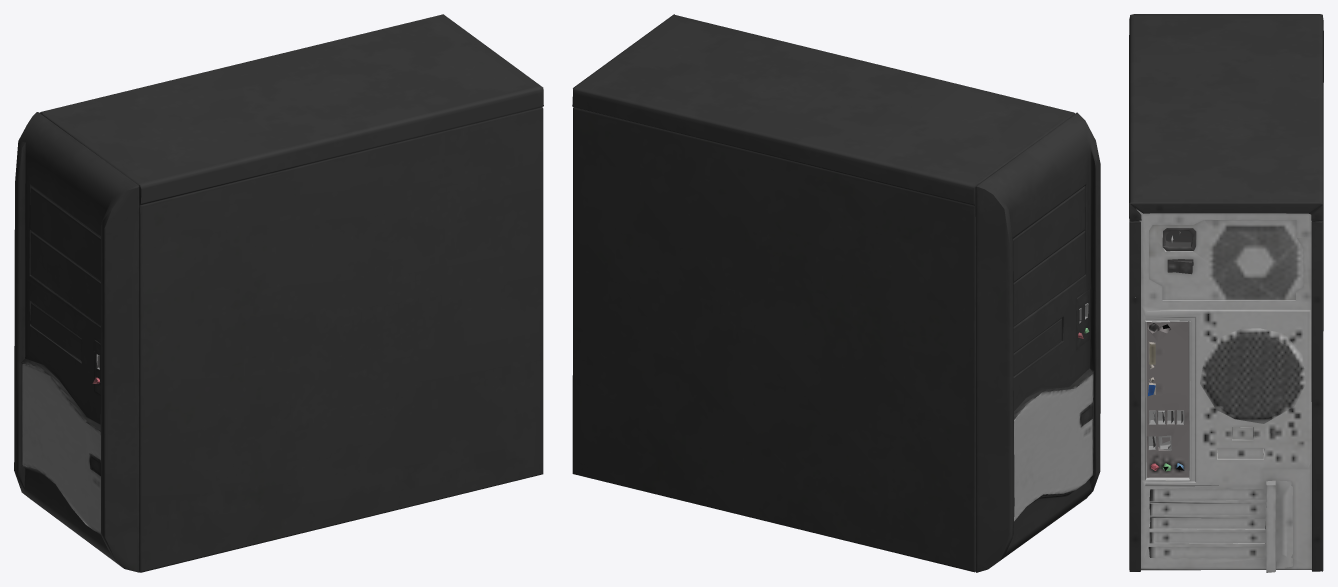
Rendered from SM_Computer01.fbx.
The picture shows the model from 3 angles, left to right: view 1: azimuth 30°, elevation 25°; view 2: azimuth 150°, elevation 25°; view 3: azimuth 270°, elevation 25°; orthographic projection. The views are drawn at different scales.
Parts seen in each view (by area): view 1: SM_Computer01_LOD0; view 2: SM_Computer01_LOD0; view 3: SM_Computer01_LOD0.
Boxes of the visible parts, x1,y1,x2,y2 form: SM_Computer01_LOD0: (14,14,543,572); SM_Computer01_LOD0: (572,14,1100,572); SM_Computer01_LOD0: (1129,14,1323,572).
Bounding box in the file's own units: 55.65 × 22.32 × 46.71.
